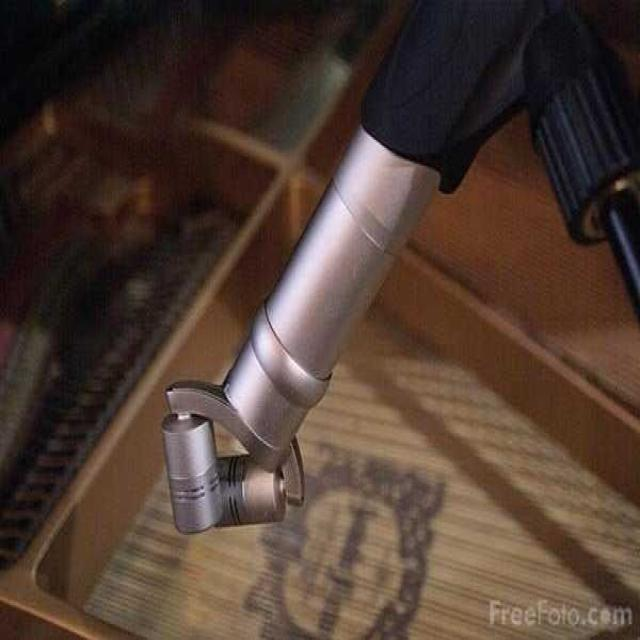microphone: (150, 166, 476, 569)
